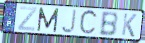B: (98, 11, 119, 38)
C: (78, 9, 99, 37)
J: (60, 9, 78, 34)
K: (120, 13, 138, 39)
M: (37, 7, 60, 33)
Z: (17, 6, 38, 32)
